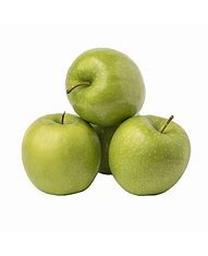apple: (107, 113, 190, 195), (20, 111, 101, 194), (64, 47, 145, 127)
